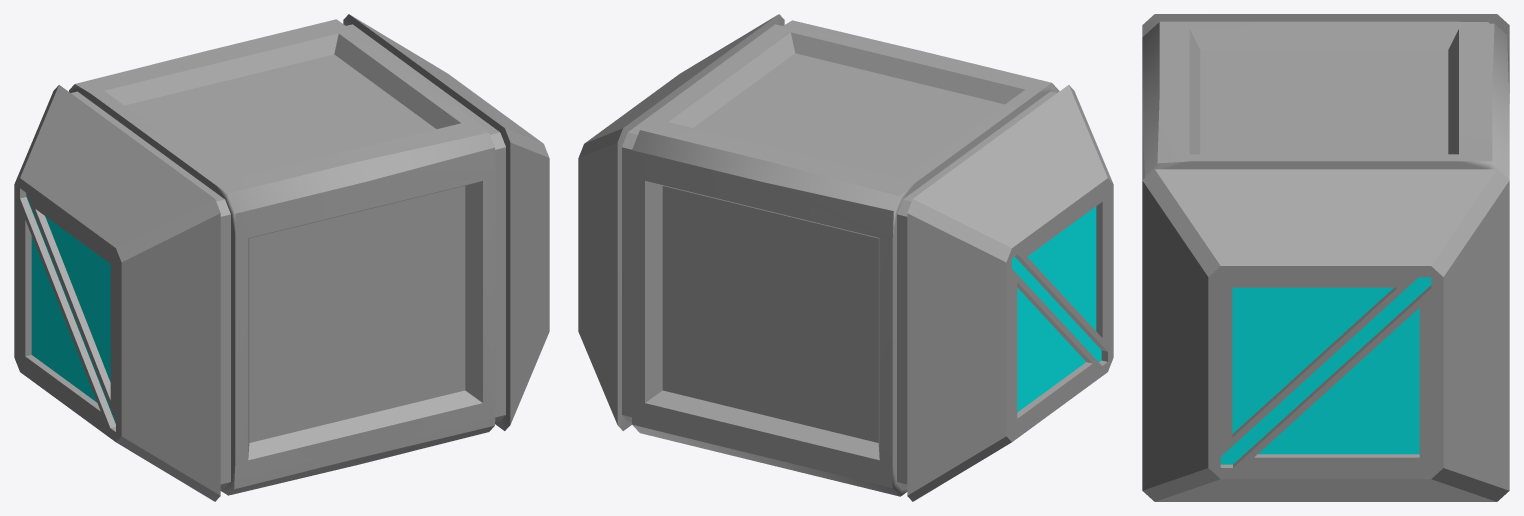
Rendered from caisse.fbx.
3 views of the same model, side by side, from view 1: azimuth 30°, elevation 25°; view 2: azimuth 150°, elevation 25°; view 3: azimuth 270°, elevation 25° (orthographic). The views are drawn at different scales.
Visible parts, largest first — view 1: pCube2; view 2: pCube2; view 3: pCube2.
Part boxes in pixels (x1,y1,x2,y2): pCube2: (14, 14, 549, 501); pCube2: (578, 14, 1113, 501); pCube2: (1142, 14, 1509, 501).
Bounding box in the file's own units: 2.97 × 2.01 × 2.01.
